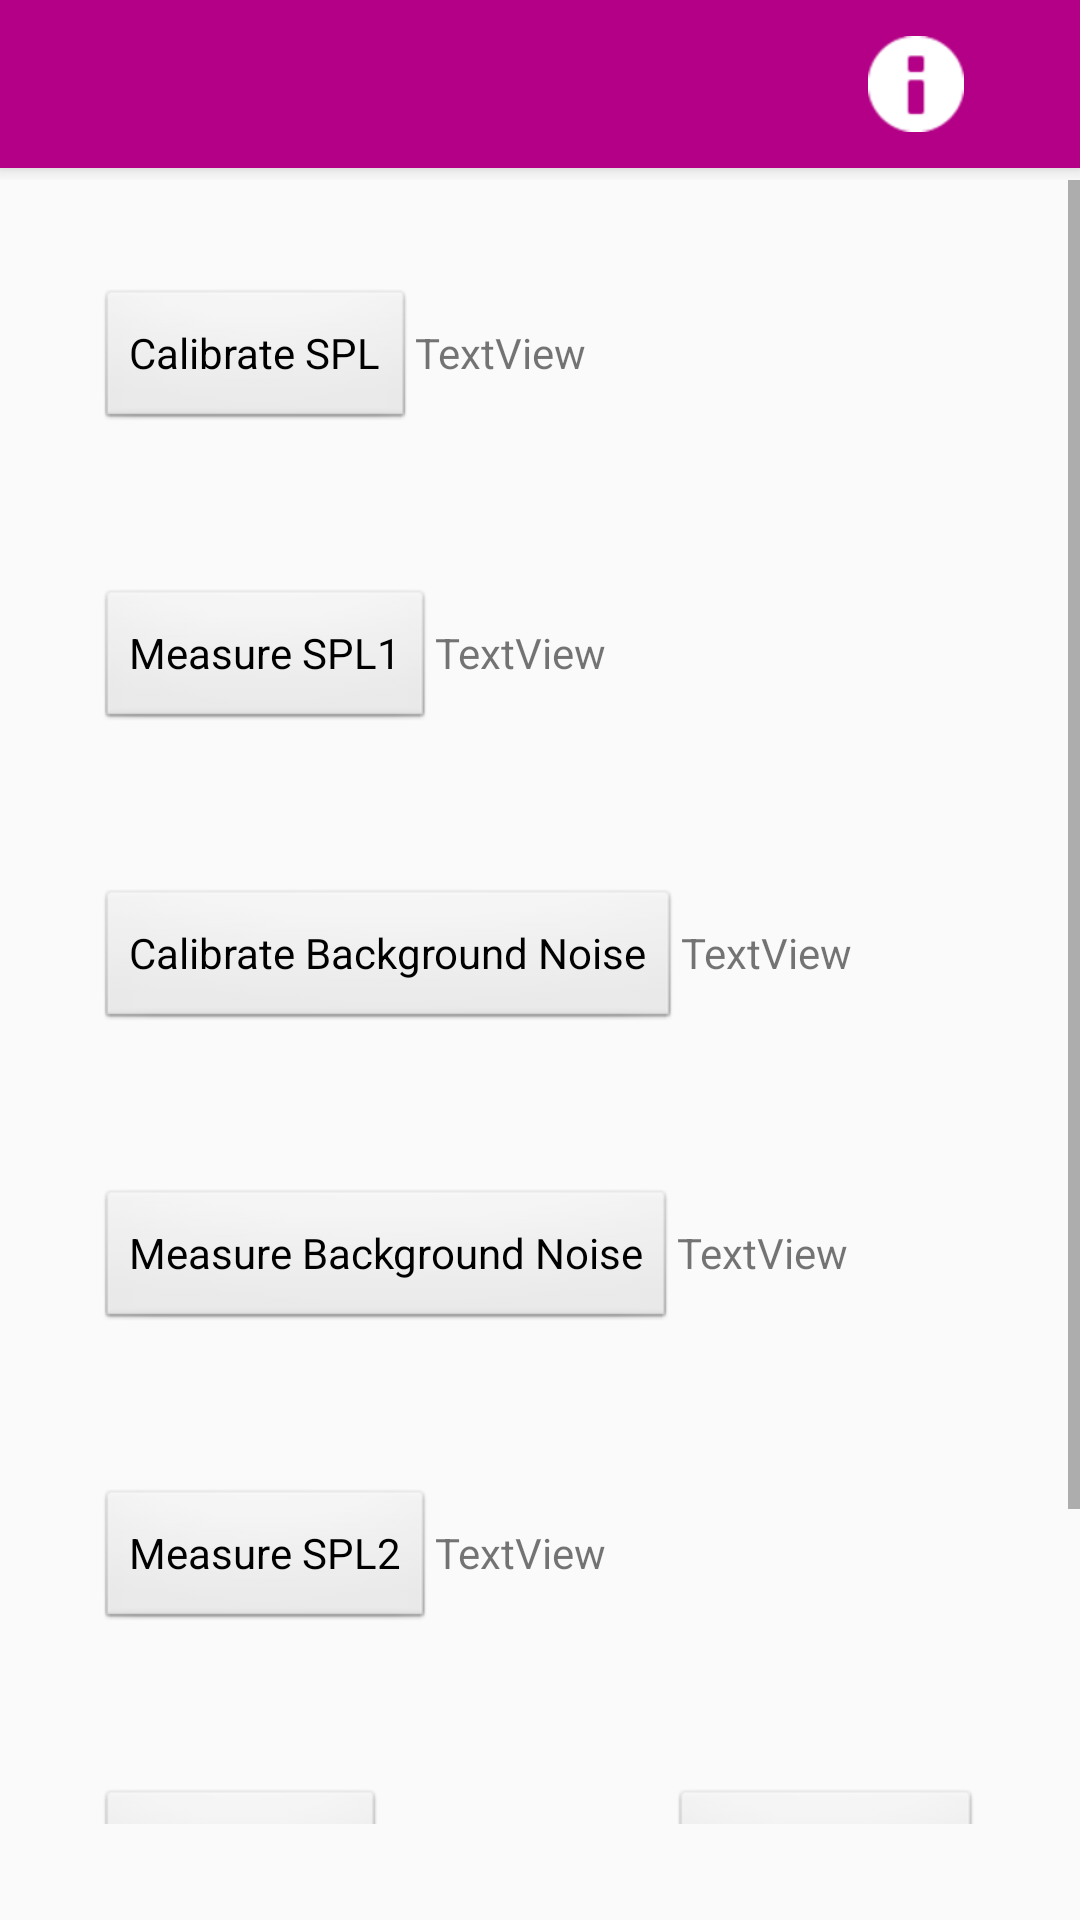

Locate icon controls on the screen. Image size 1080*1920, boxes as (x1, y1, x2, y2).
info: (868, 36, 964, 132)
